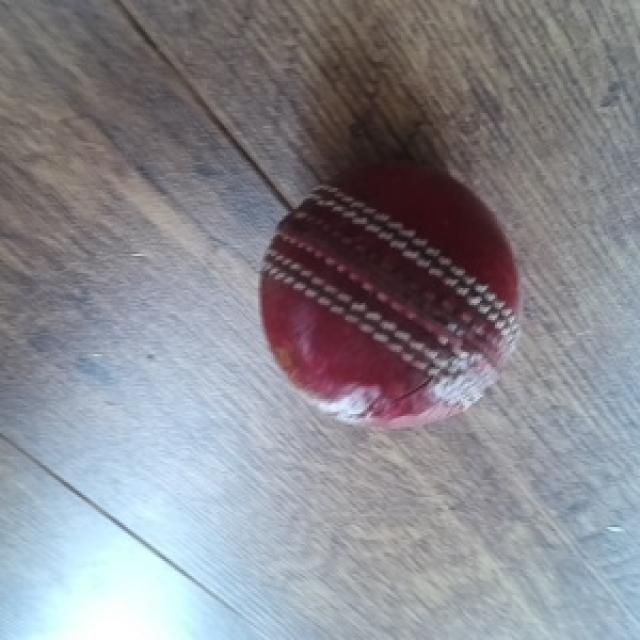ball: (258, 160, 523, 433)
